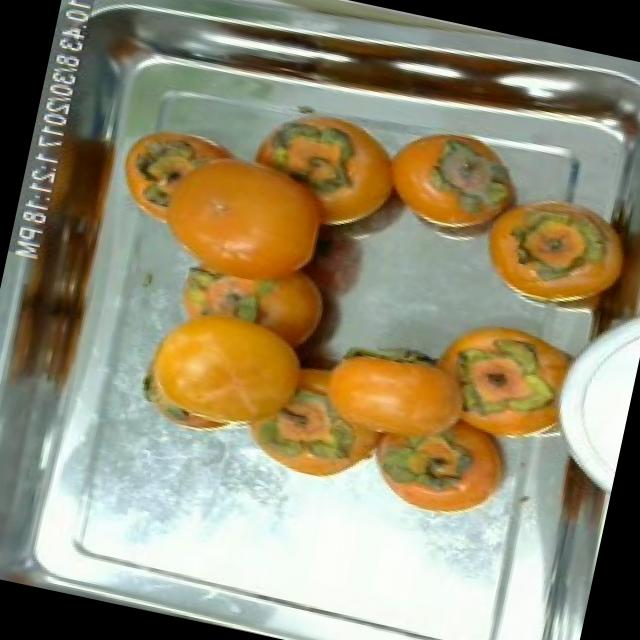Fruit: (90, 106, 311, 295), (407, 296, 599, 469), (122, 284, 301, 456), (459, 169, 640, 332), (362, 111, 544, 262), (356, 402, 530, 540), (228, 384, 386, 494)
